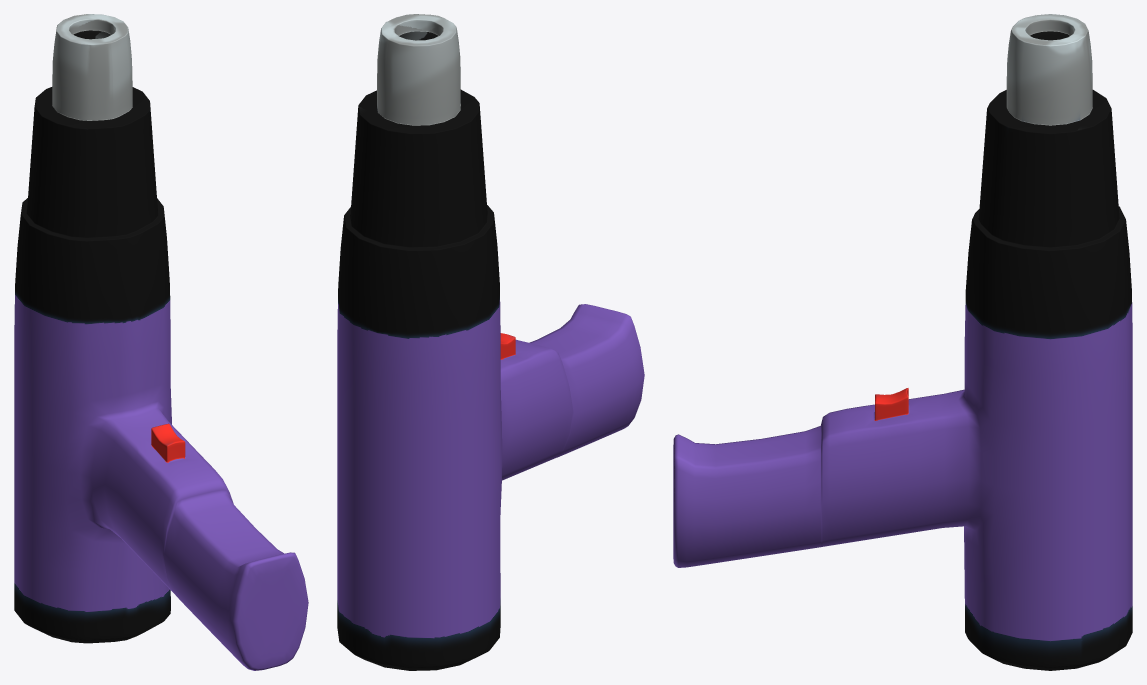
File: heatgun.gltf
3 views of the same model, side by side, from view 1: azimuth 30°, elevation 25°; view 2: azimuth 150°, elevation 25°; view 3: azimuth 270°, elevation 25° (orthographic). The views are drawn at different scales.
Parts seen in each view (by area): view 1: heatgun.001; view 2: heatgun.001; view 3: heatgun.001.
Boxes of the visible parts, x1=… form: heatgun.001: x1=14, y1=14, x2=308, y2=670; heatgun.001: x1=337, y1=14, x2=644, y2=670; heatgun.001: x1=673, y1=14, x2=1132, y2=670.
Bounding box in the file's own units: 0.00142 × 0.00592 × 0.00397.
Materials: 1 (1 with a texture image).
